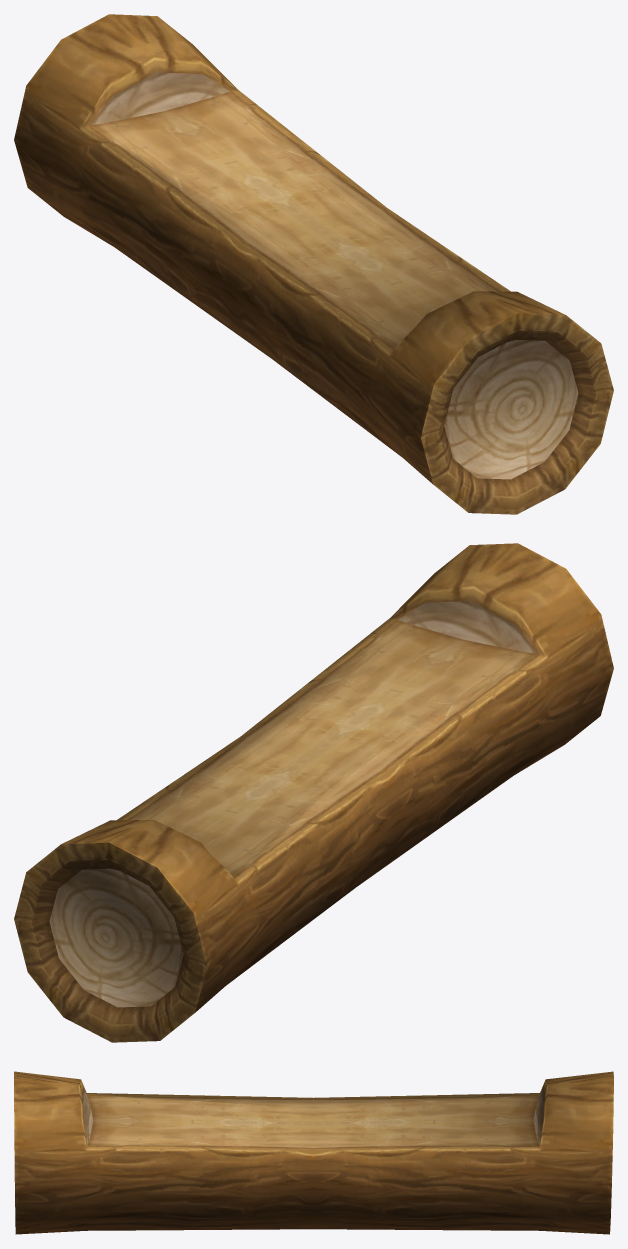
The model's file is wt_bench_01.obj.
3 views of the same model, one above another, from view 1: azimuth 30°, elevation 25°; view 2: azimuth 150°, elevation 25°; view 3: azimuth 270°, elevation 25° (orthographic). The views are drawn at different scales.
Parts seen in each view (by area): view 1: wt_bench_01; view 2: wt_bench_01; view 3: wt_bench_01.
Part boxes in pixels (box(x1,y1,x2,y2)): wt_bench_01: box(14, 14, 613, 514); wt_bench_01: box(14, 543, 613, 1042); wt_bench_01: box(14, 1071, 613, 1234).
Bounding box in the file's own units: 1.24 × 1.24 × 4.56.
1 material, 1 textured.
